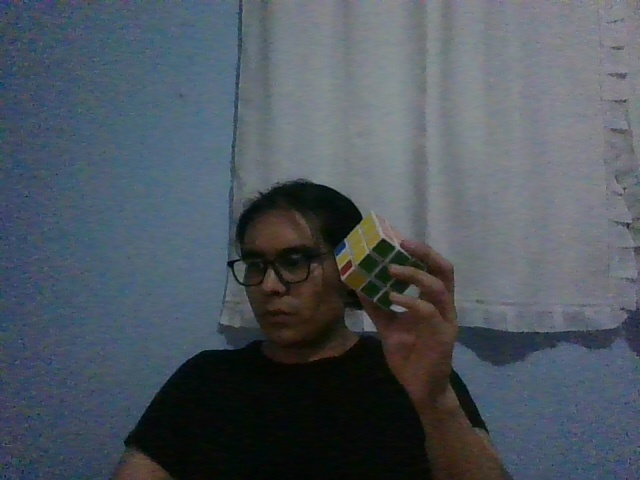rubik: (334, 210, 427, 309)
